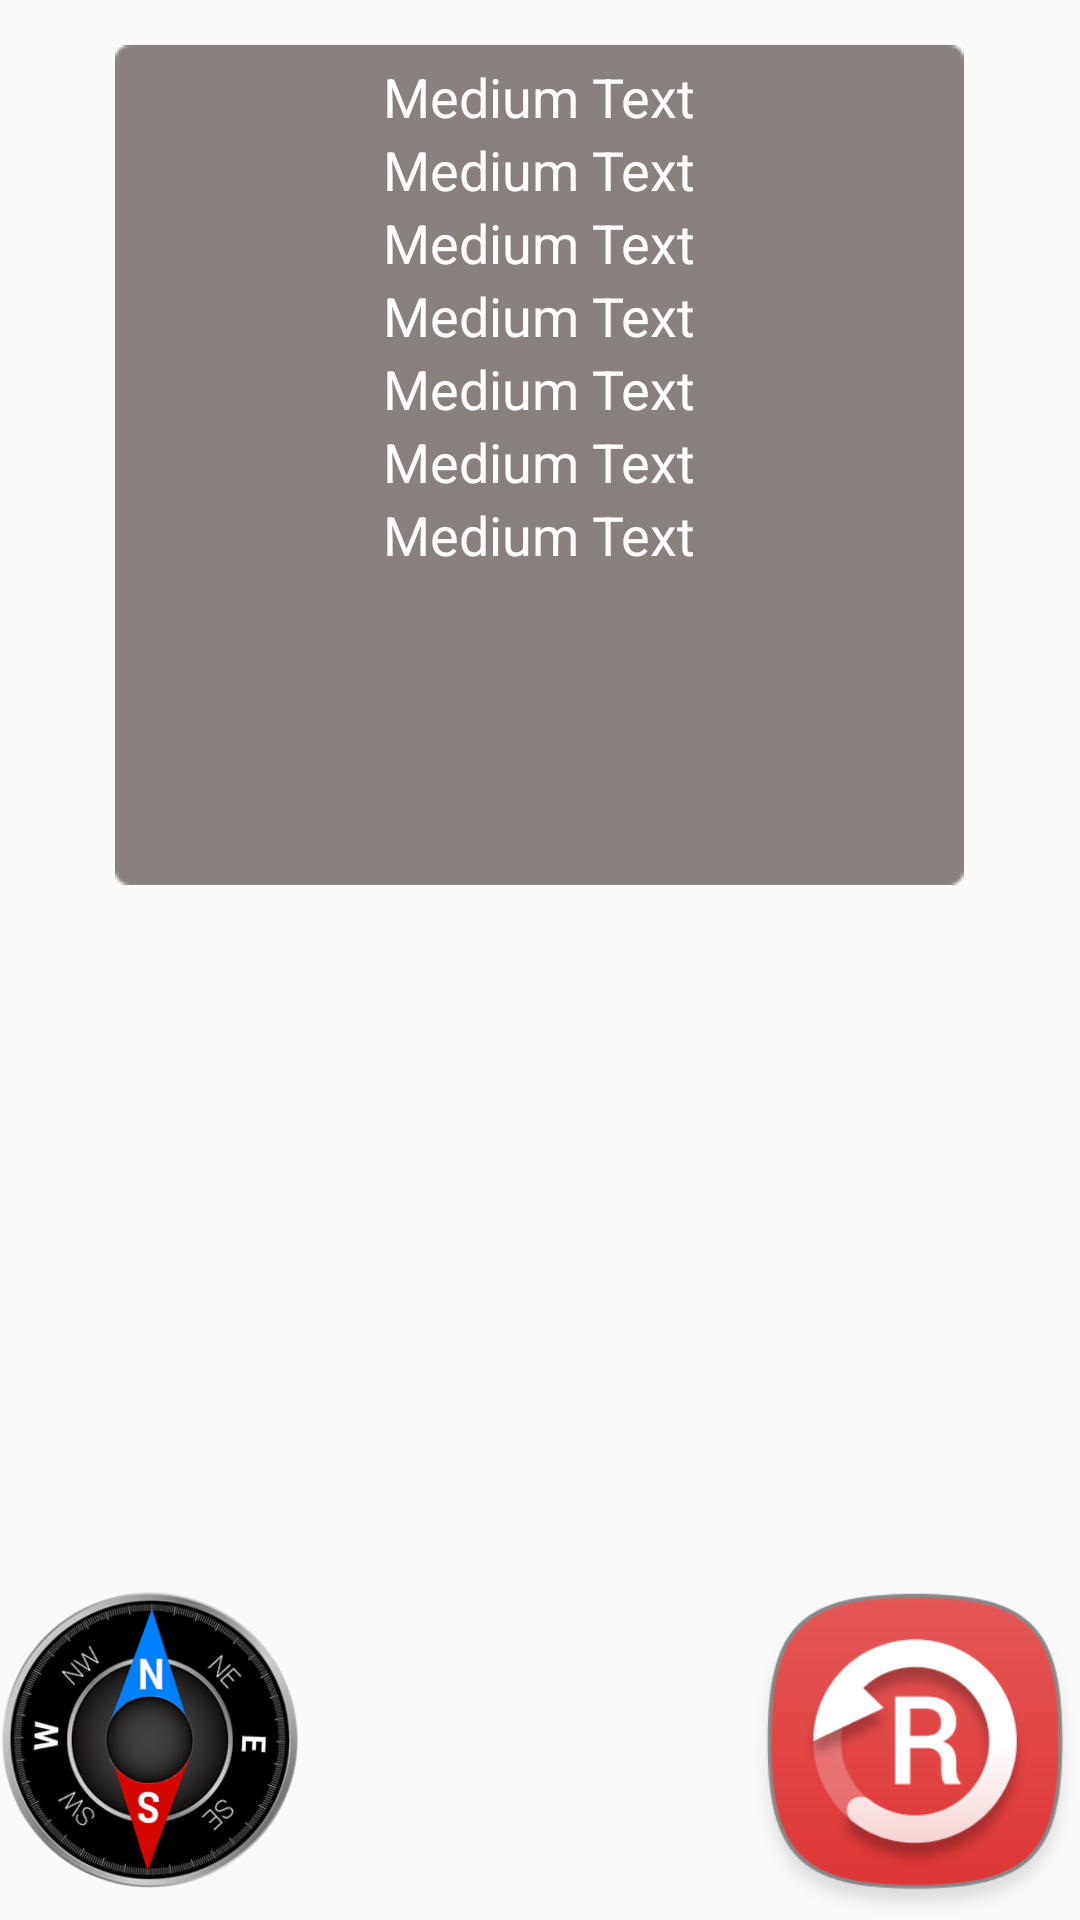

Icon bounding boxes for this 1080w x 1920h phone screenshot, format (x1, y1, x2, y2):
compass: (3, 1593, 298, 1888)
reset: (767, 1594, 1063, 1895)
